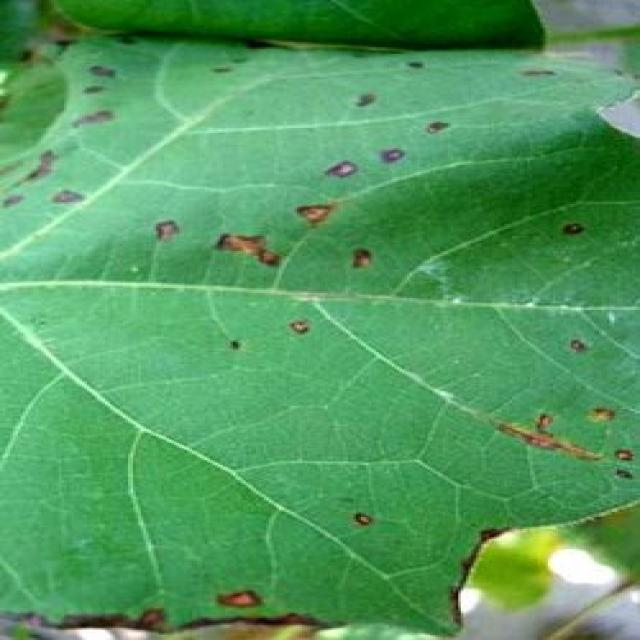Bacterial Blight: (20, 20, 487, 308)
